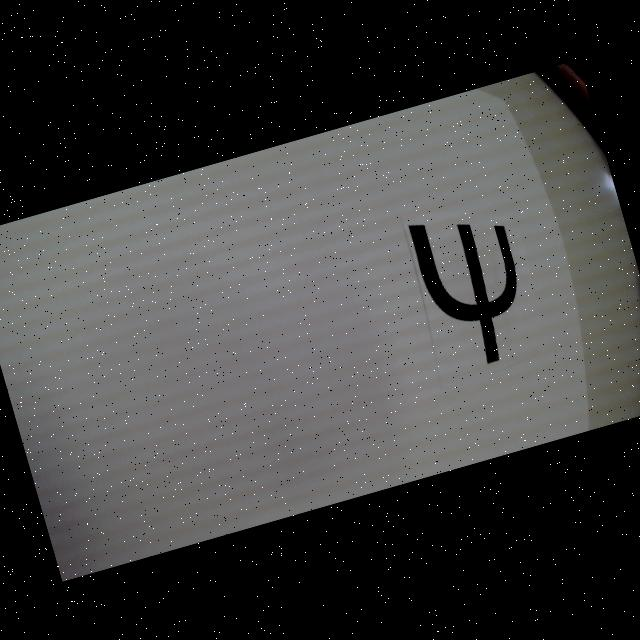PSI: (407, 198, 540, 375)
